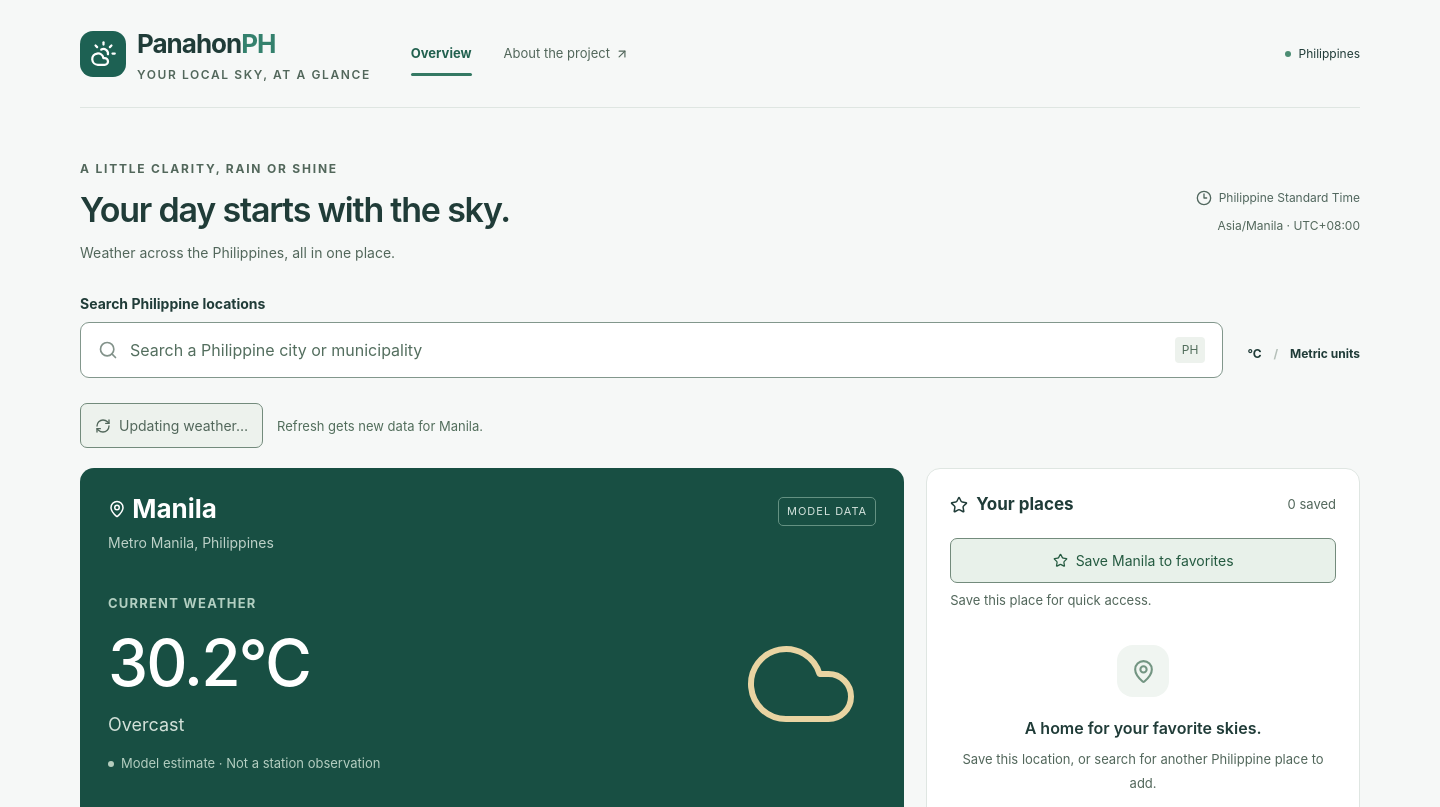
it: selected location and its weather › starts in Manila, uses the selected place object, and hides old weather immediately
Expected: the text "30.2°C" is shown, [108,624,310,701]
Type "San Jose" into the dropdown at (646, 350), box [130,338,1163,362]
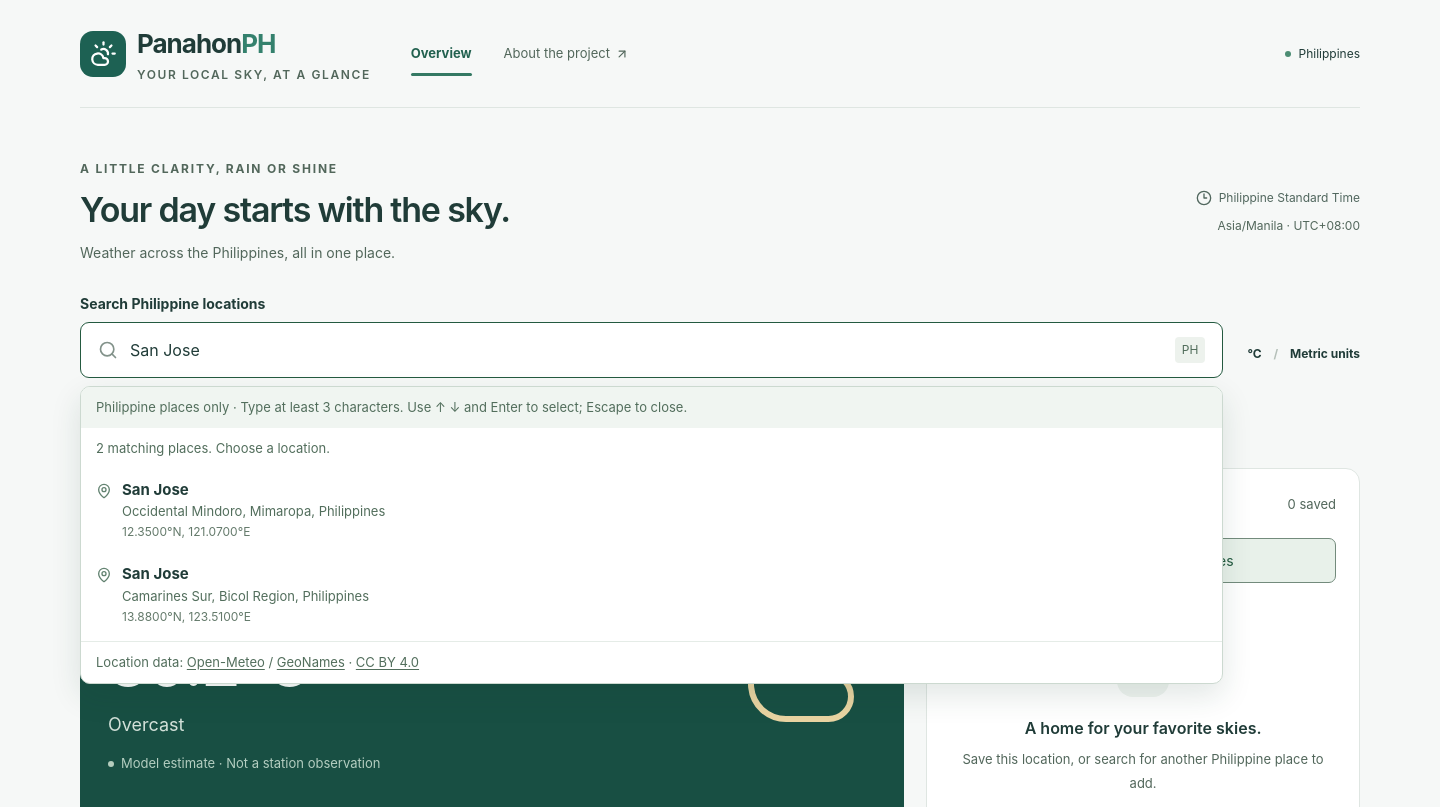
Click the 2nd option at (232, 594), box [96,564,369,624]
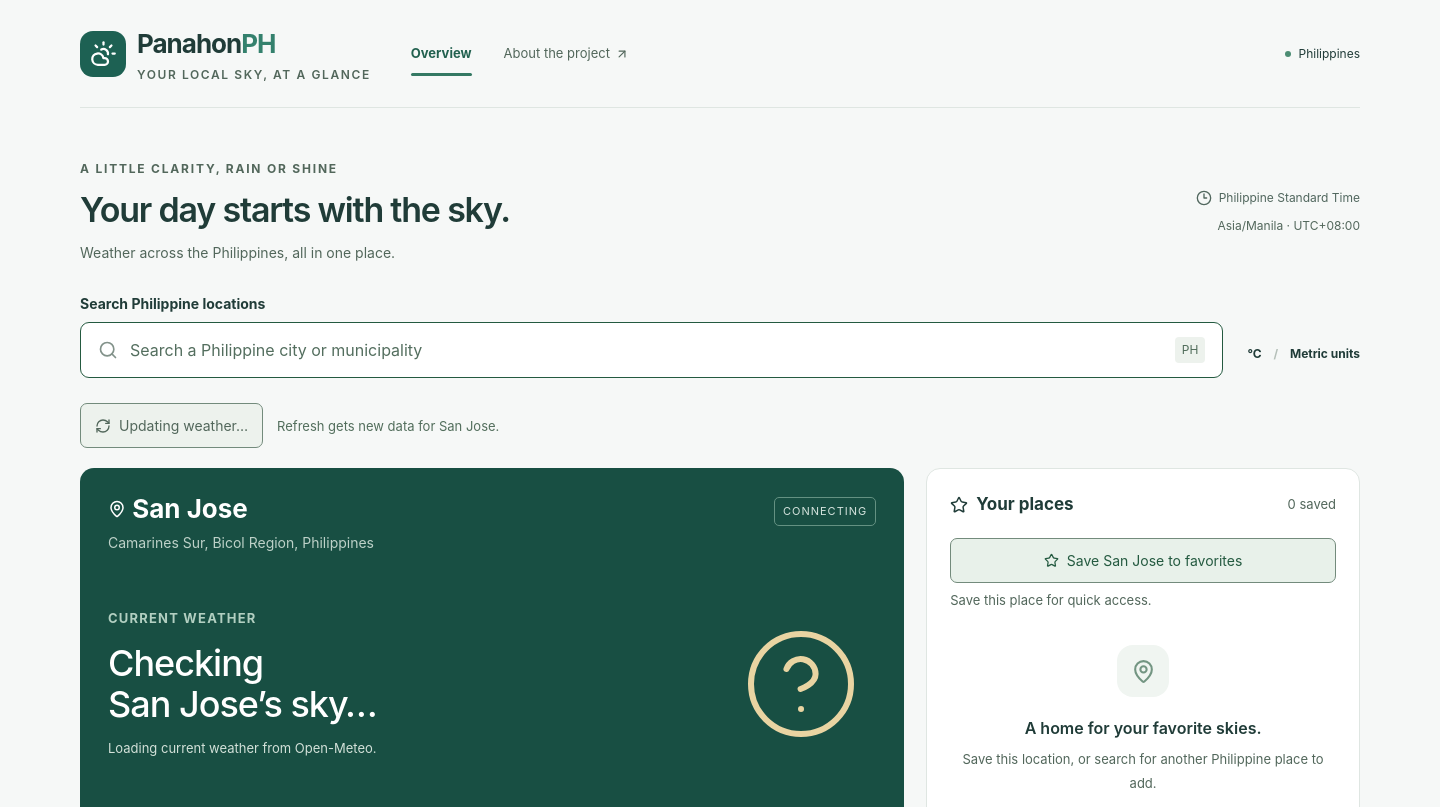
Now the heading with class "location" shows "San Jose", box [132,493,248,524]
Now the heading with class "location" shows "Camarines Sur", box [108,534,374,551]
Now the text "30.2°C" is gone
